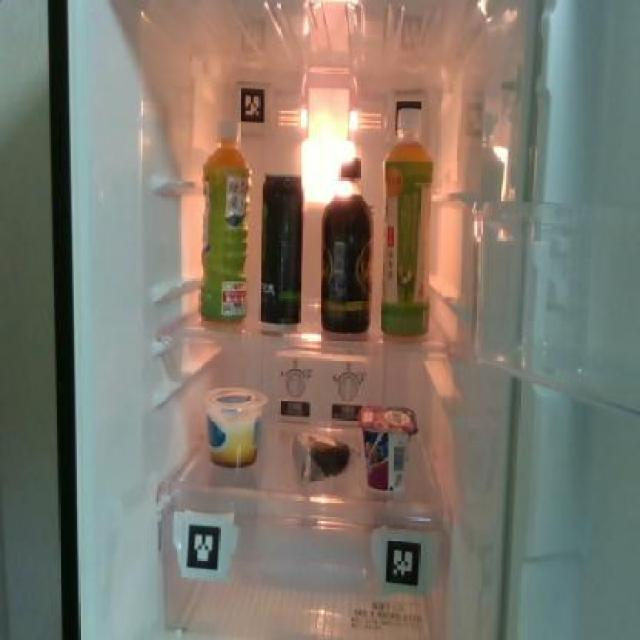bottle: (378, 107, 434, 336), (197, 116, 251, 322)
can: (256, 169, 302, 326)
coffee: (318, 155, 372, 334)
pudding: (202, 381, 266, 468)
rice_ball: (287, 422, 358, 490)
yogurt: (358, 401, 418, 494)
